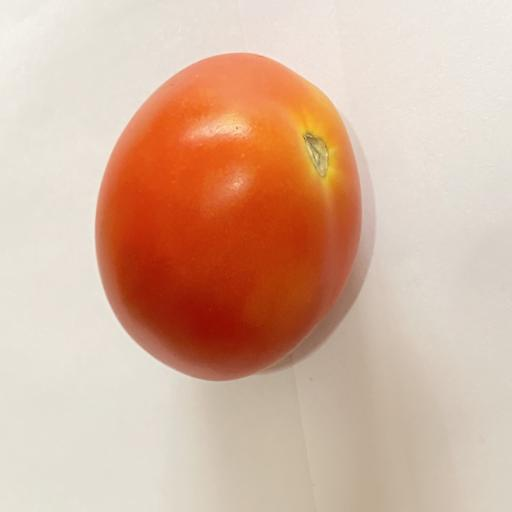ripe: (95, 53, 362, 380)
